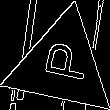P_W: (34, 42, 90, 88)
